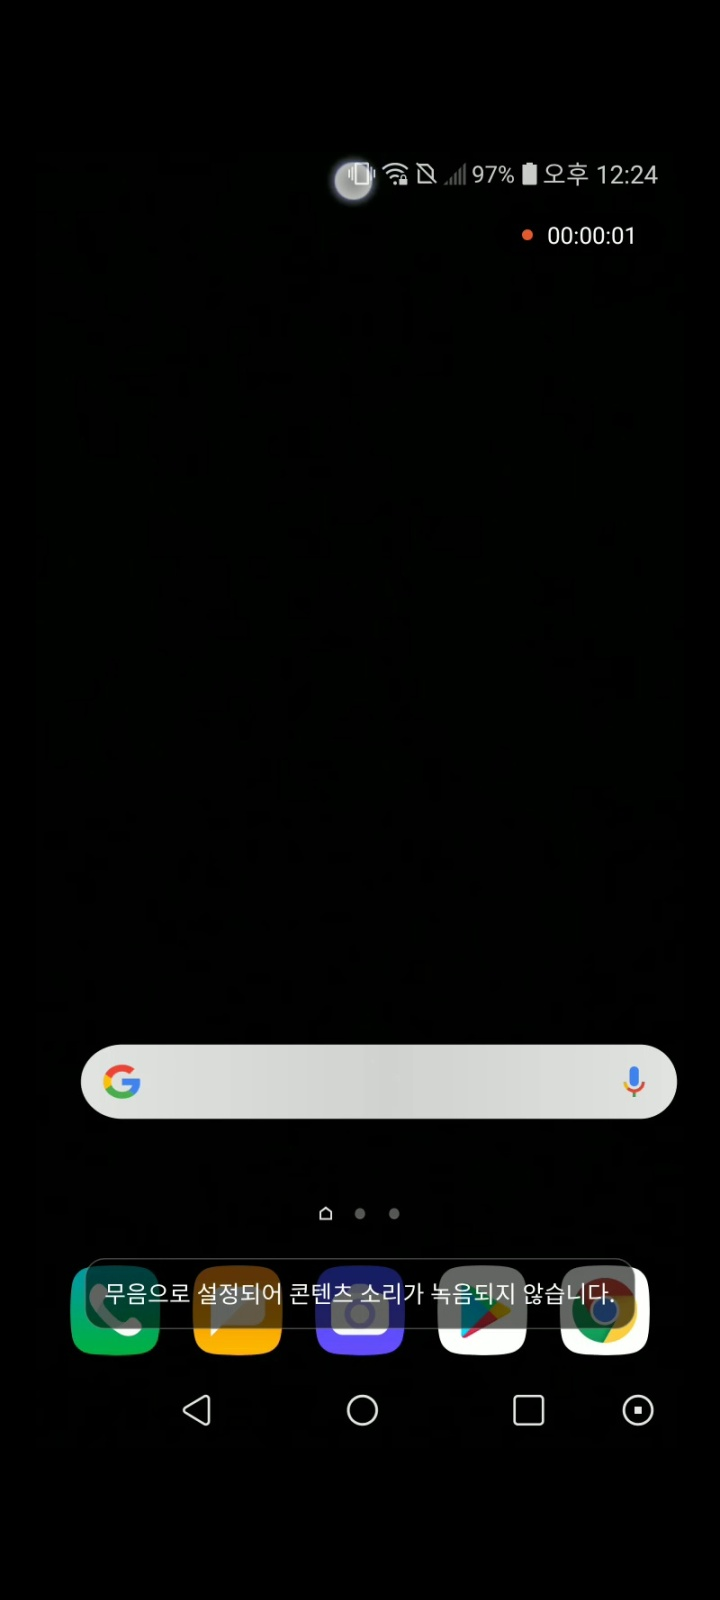Cursor: (332, 160, 377, 206)
